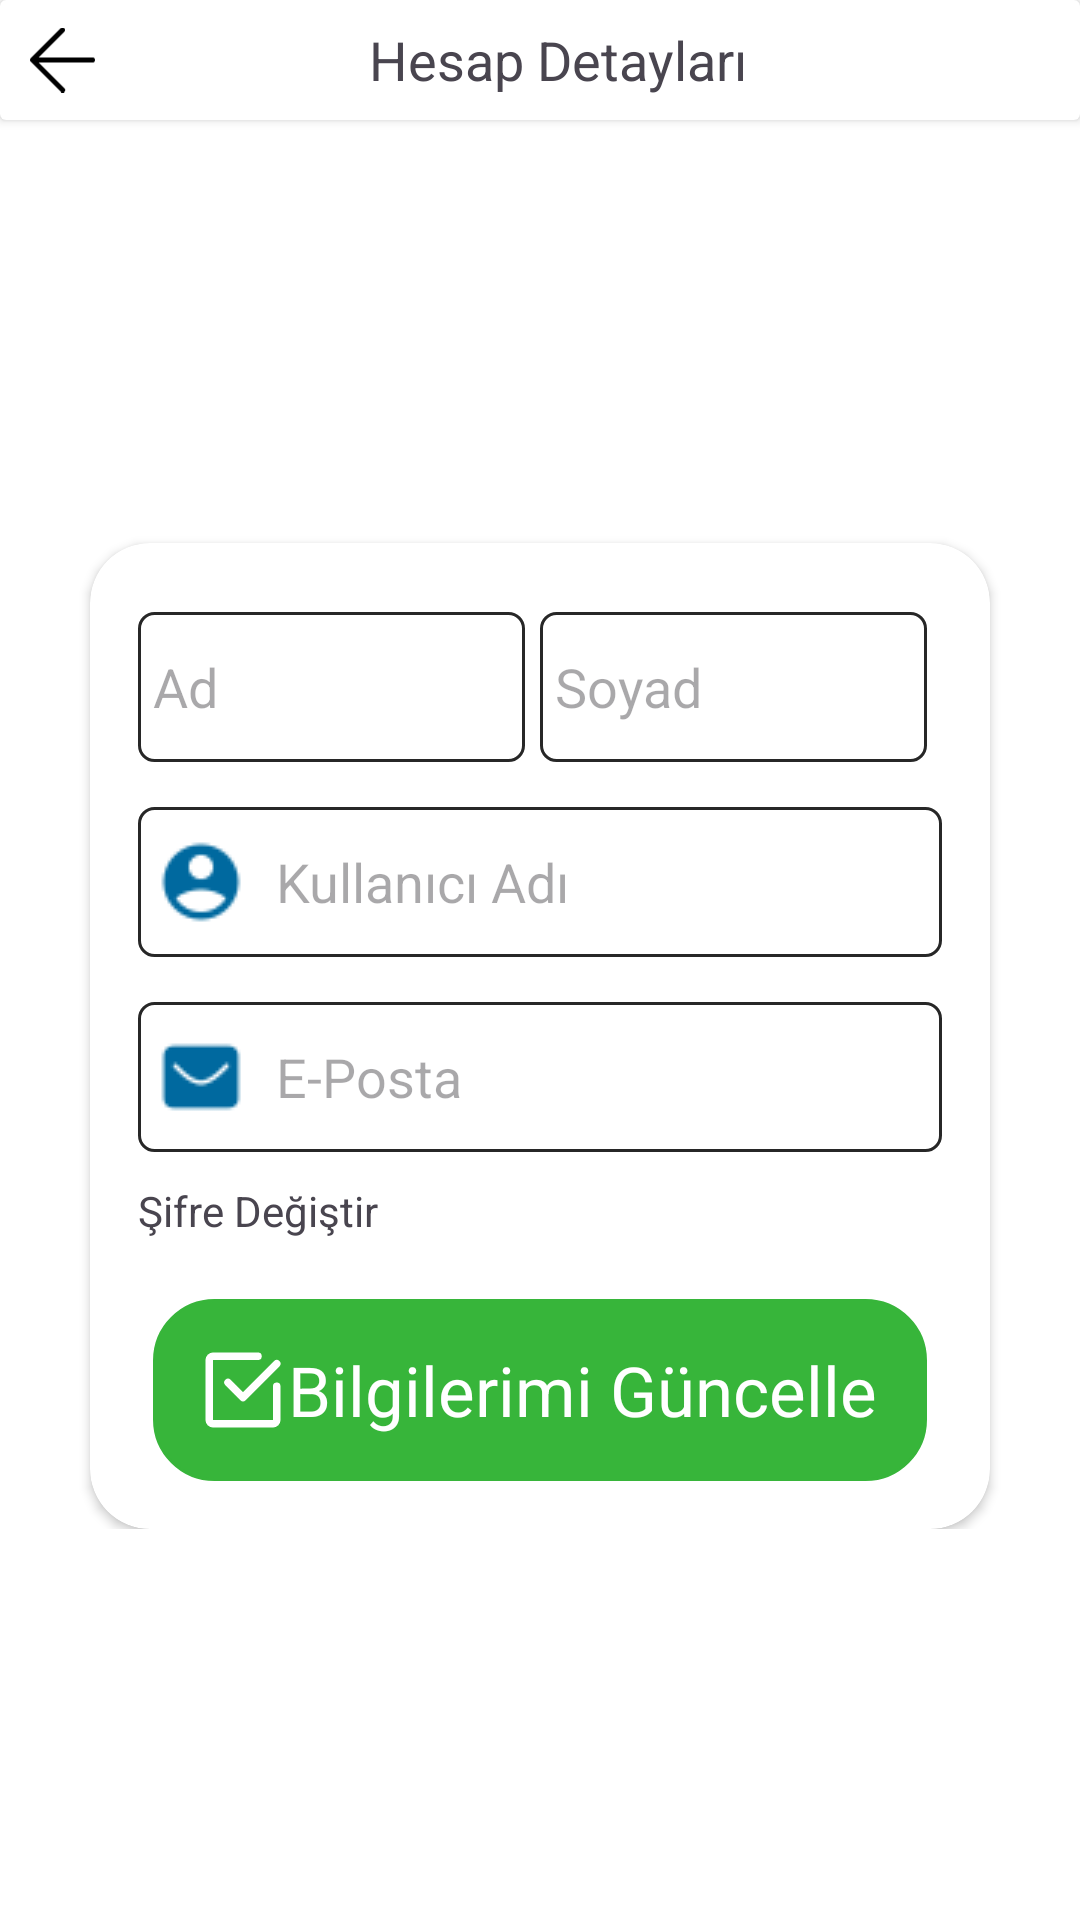

Named icons in this screenshot (1080 x 1920) and their centers, [x,y]:
back arrow navigation: [47,60]
